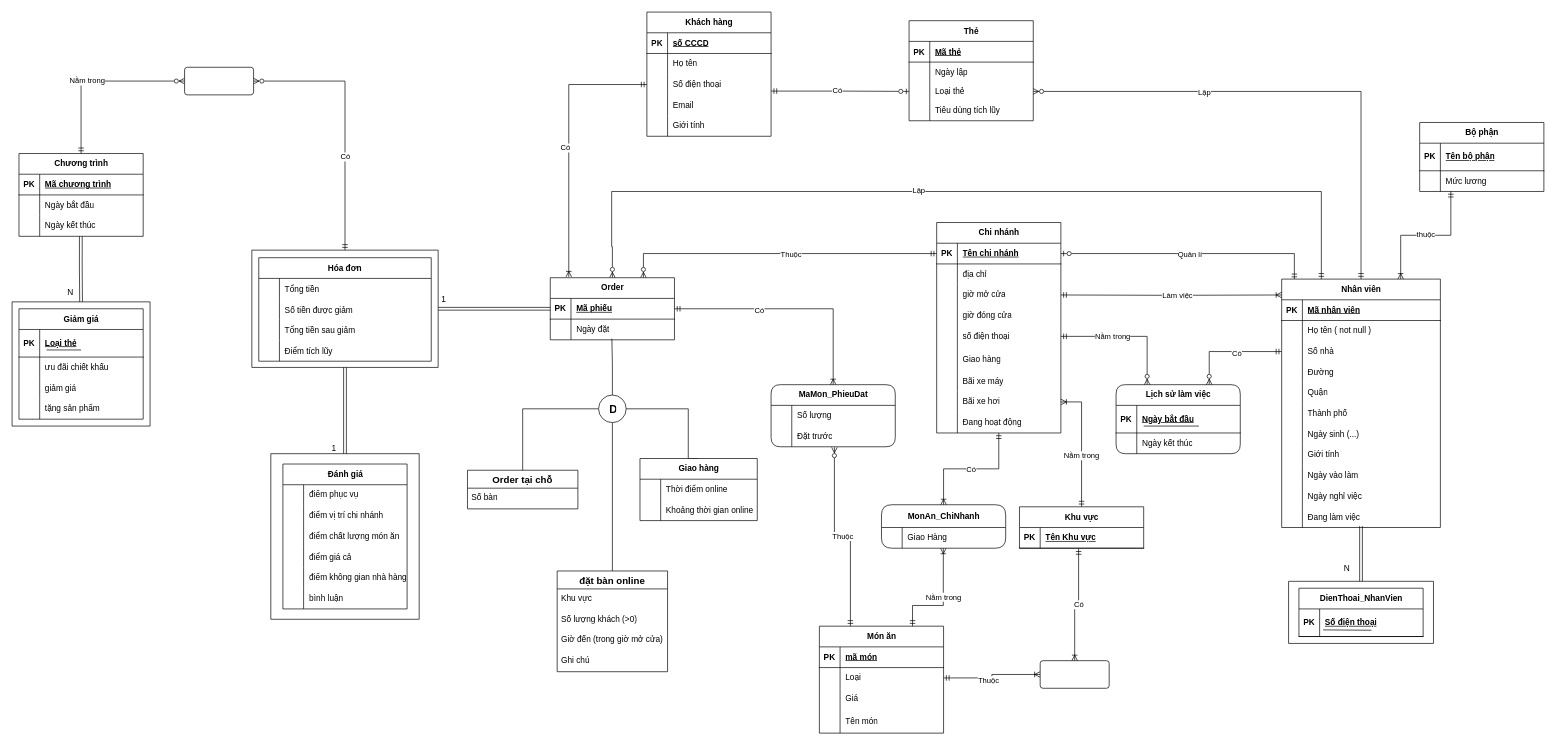
The diagram is 1556 pixels wide and 745 high, and some of its shapes have lost their labels. Here are the shapes that lost their labels. From the top down, the centre of each, then its label:
At [219,81]: "Tham gia chương trình".
At [1074,674]: "MonAn-KhuVuc".
